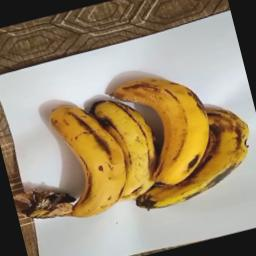Banana Unripe: (5, 86, 138, 233), (104, 54, 226, 200), (126, 96, 256, 213), (85, 78, 166, 208)
